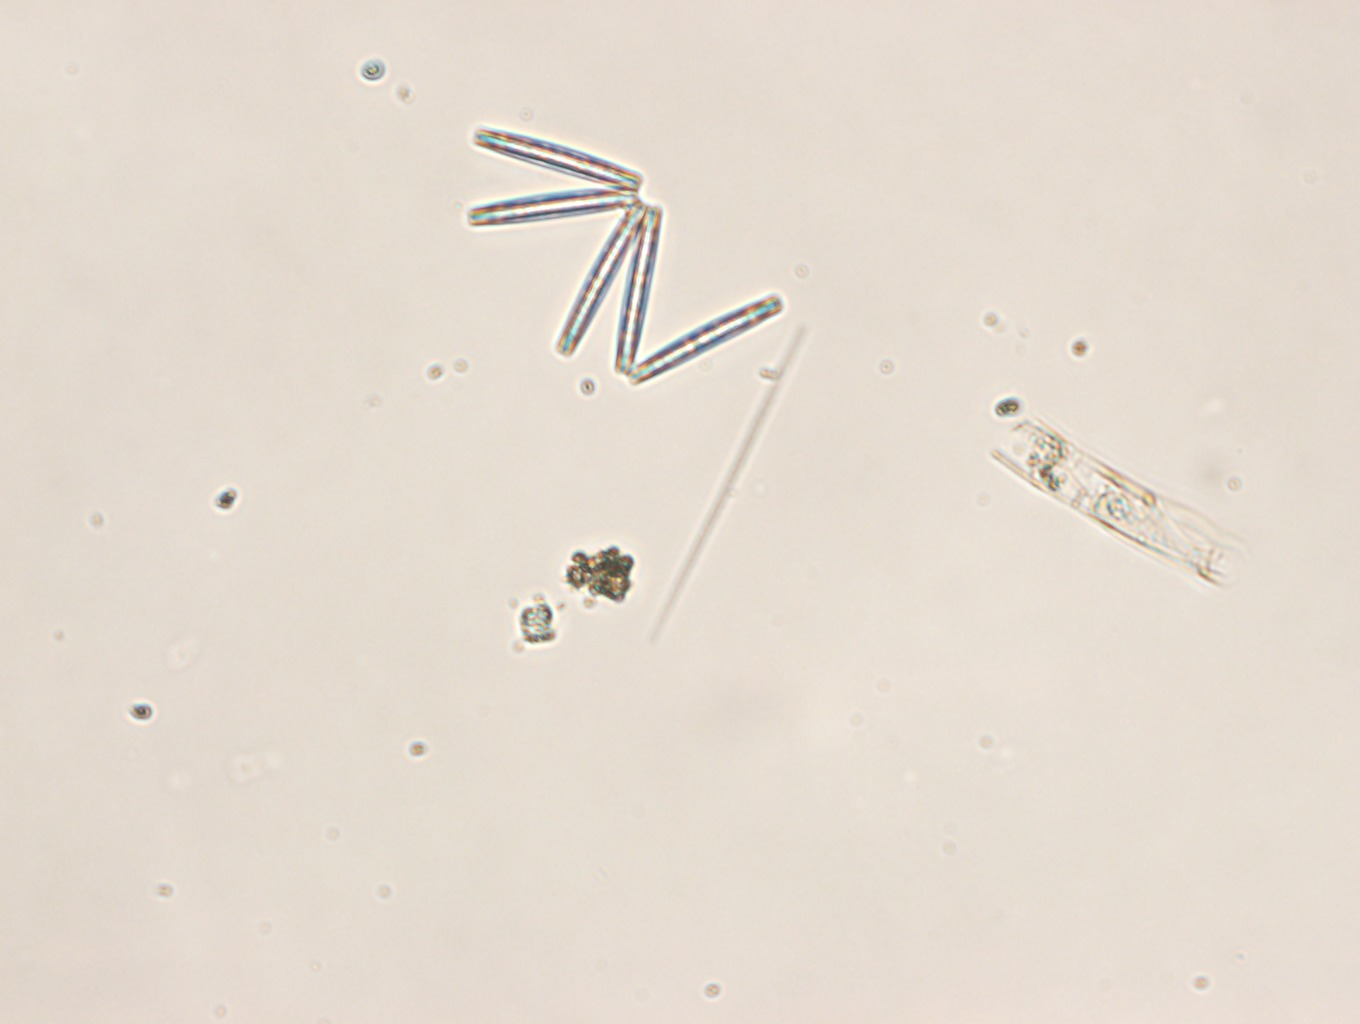thalassionema nitzschioides: (466, 126, 785, 387)
